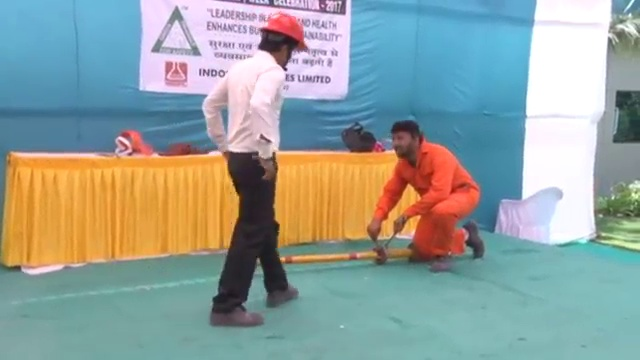helmet: (261, 10, 309, 50)
helmet_off: (391, 121, 421, 161)
helmet_on: (258, 10, 309, 71)
person: (203, 10, 311, 328), (367, 121, 485, 271)
